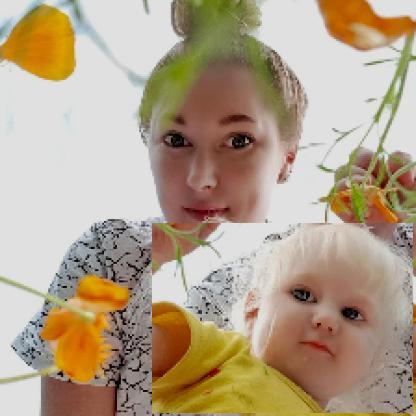child: (153, 224, 415, 415)
